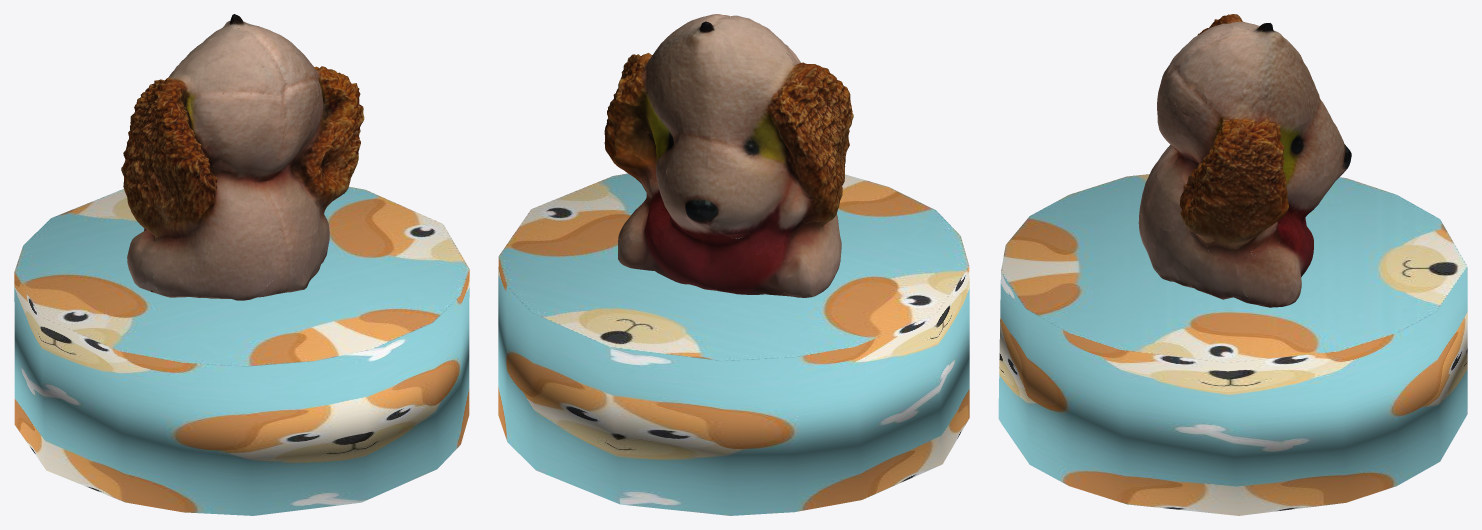
The model's file is asset.glb.
The picture shows the model from 3 angles, left to right: view 1: azimuth 30°, elevation 25°; view 2: azimuth 150°, elevation 25°; view 3: azimuth 270°, elevation 25°; orthographic projection. The views are drawn at different scales.
Visible parts, largest first — view 1: Cylinder, Mesh_0.001; view 2: Cylinder, Mesh_0.001; view 3: Cylinder, Mesh_0.001.
Boxes of the visible parts, left/top/right/bottom form: Cylinder: left=14, top=186, right=469, bottom=515; Mesh_0.001: left=121, top=14, right=364, bottom=300; Cylinder: left=498, top=173, right=969, bottom=515; Mesh_0.001: left=604, top=14, right=853, bottom=297; Cylinder: left=998, top=174, right=1467, bottom=515; Mesh_0.001: left=1138, top=14, right=1351, bottom=307.
Size of the model in its own units: 1.31 by 1.23 by 1.31.
Materials: 2 (2 with a texture image).
